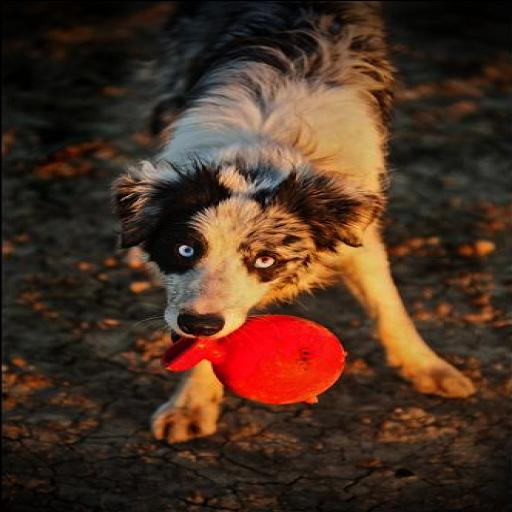dog_face: (111, 167, 379, 339)
